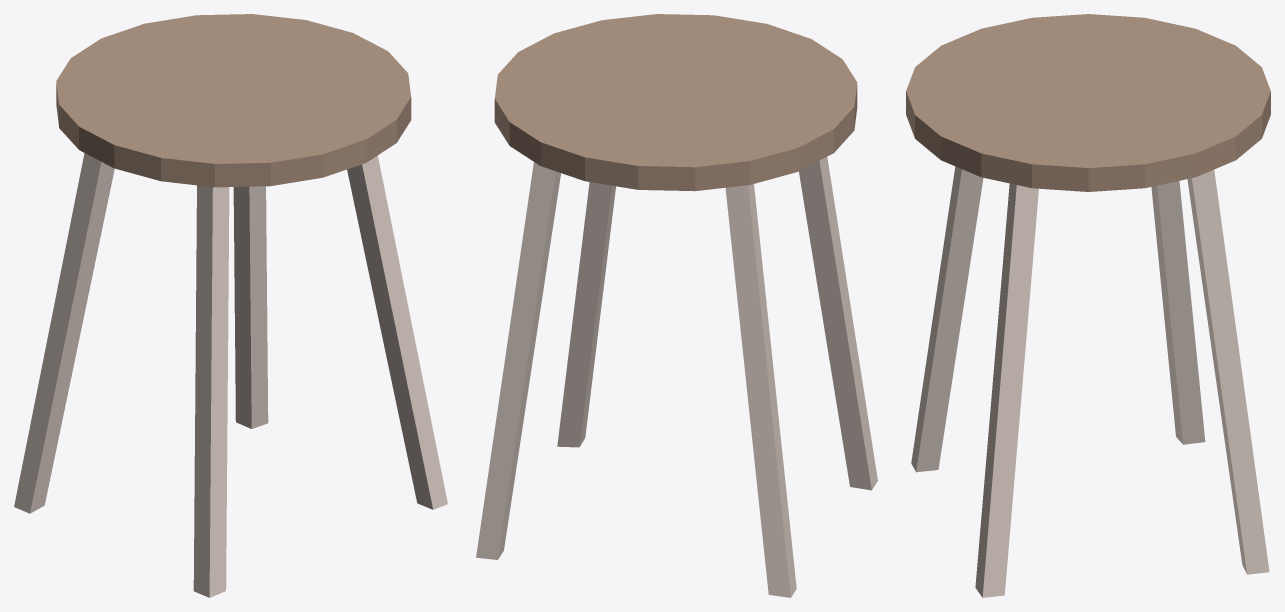
Rendered from Stool_231109.glb.
The picture shows the model from 3 angles, left to right: view 1: azimuth 30°, elevation 25°; view 2: azimuth 150°, elevation 25°; view 3: azimuth 270°, elevation 25°; orthographic projection. The views are drawn at different scales.
Visible parts, largest first — view 1: Stool; view 2: Stool; view 3: Stool.
Part boxes in pixels (bbox=[...]): Stool: bbox=[14, 14, 447, 597]; Stool: bbox=[476, 14, 877, 597]; Stool: bbox=[906, 14, 1270, 597].
Size of the model in its own units: 0.7513 by 0.9146 by 0.7068.
1 material, 1 textured.
